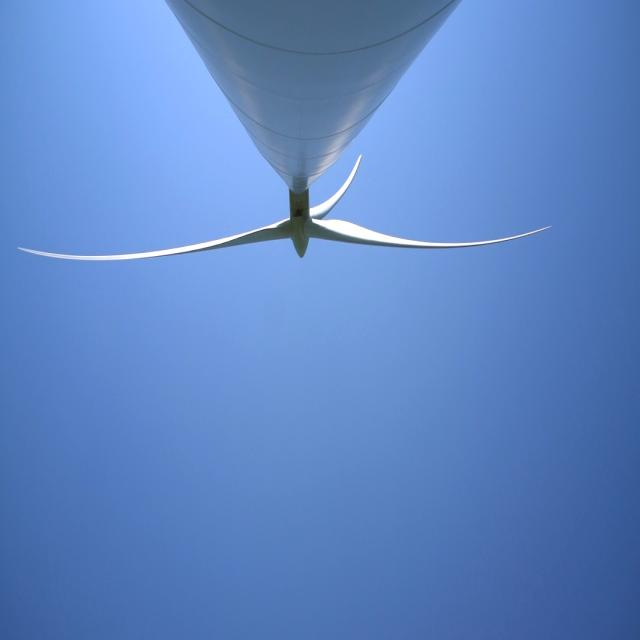blade 1: (324, 122, 376, 220)
blade 2: (19, 205, 268, 272)
blade 3: (386, 180, 581, 268)
